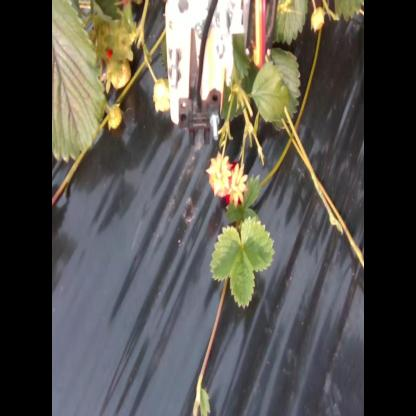ripe: (224, 159, 248, 212)
unripe: (207, 153, 233, 200), (147, 72, 173, 112), (104, 57, 134, 91), (105, 103, 124, 131)
